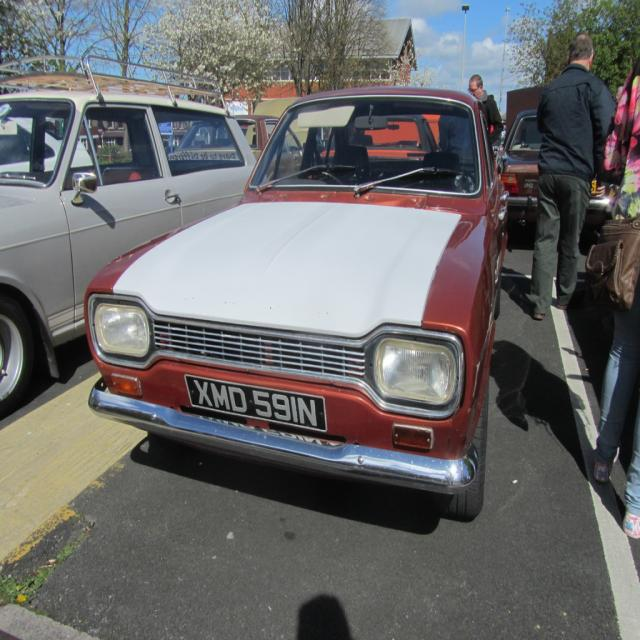car: (85, 82, 511, 513)
